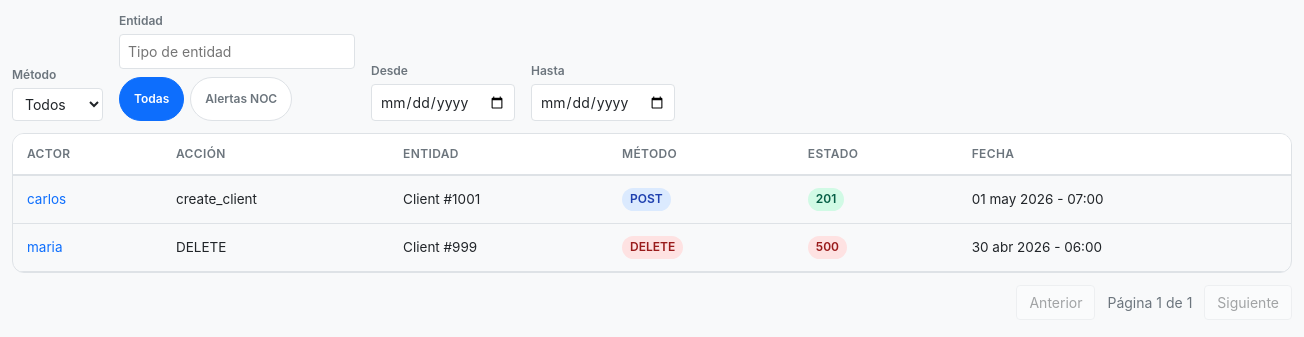
Test: ActivityBody › clicking the "Alertas NOC" preset sets entityType=NocAlert and resets to page 1
The width and height of the screenshot is (1304, 337).
Click the button "Alertas NOC" at point(241, 99), box [190,77,292,121]
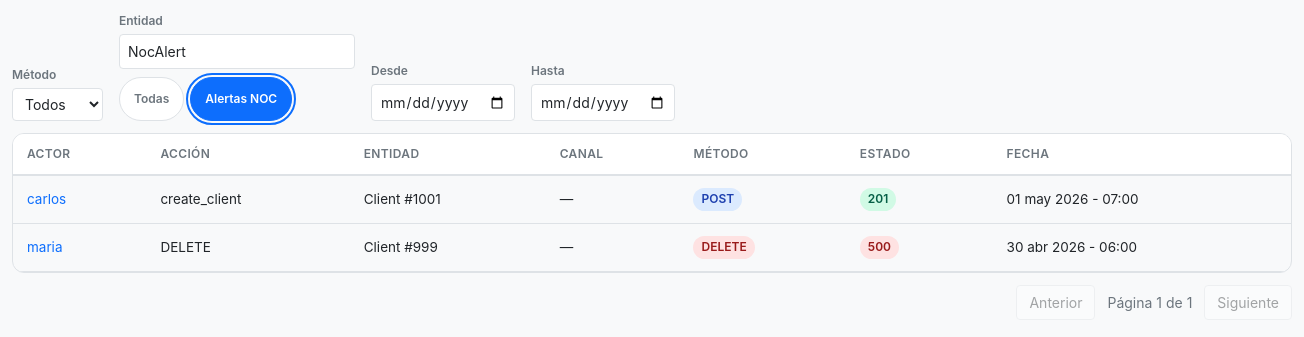
Check: the field labelled "Entidad" holds "NocAlert", box [119,34,355,69]
